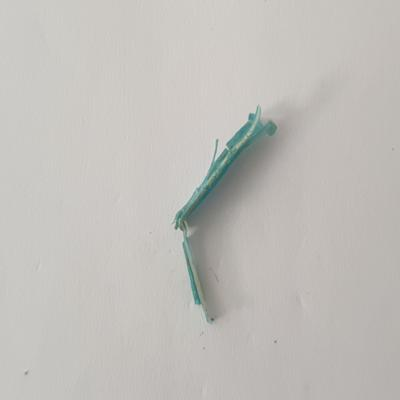plastic: (171, 101, 283, 329)
